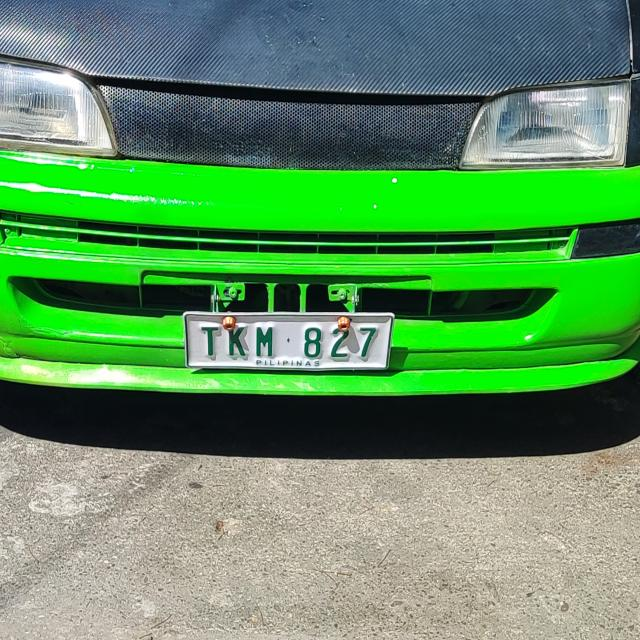plate: (180, 308, 398, 374)
